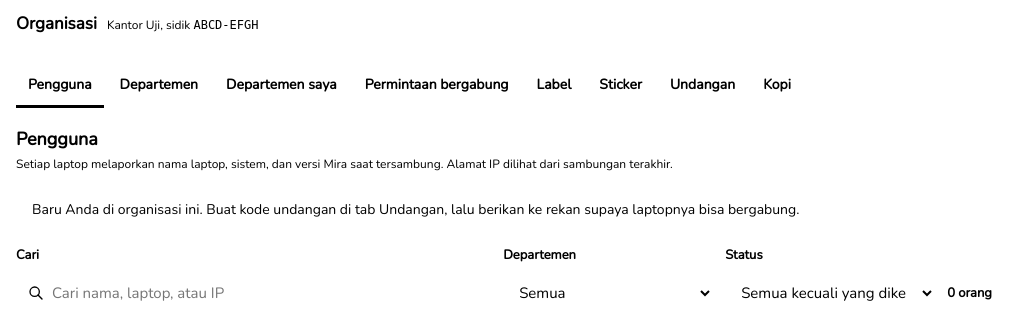
Test: Sticker: tab dan keadaan › inti yang tidak mengirim katalog dianggap error, bukan memuat selamanya
Click the button "Sticker" at (621, 86), box [587,64,654,108]
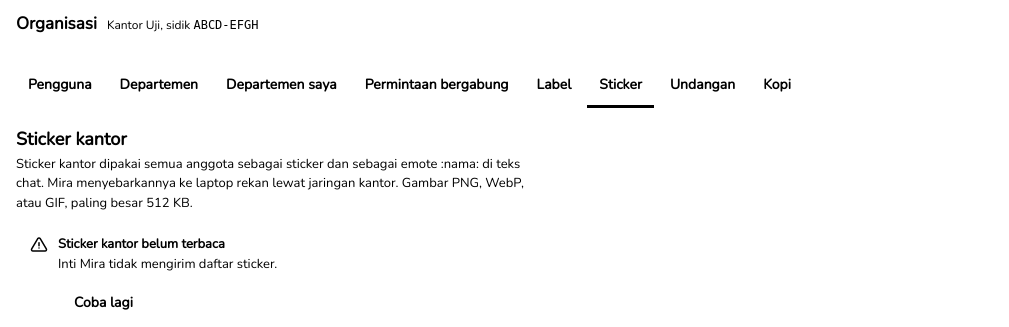
Check: the text "Inti Mira tidak mengirim daftar sticker." is shown, box [58,254,277,274]
